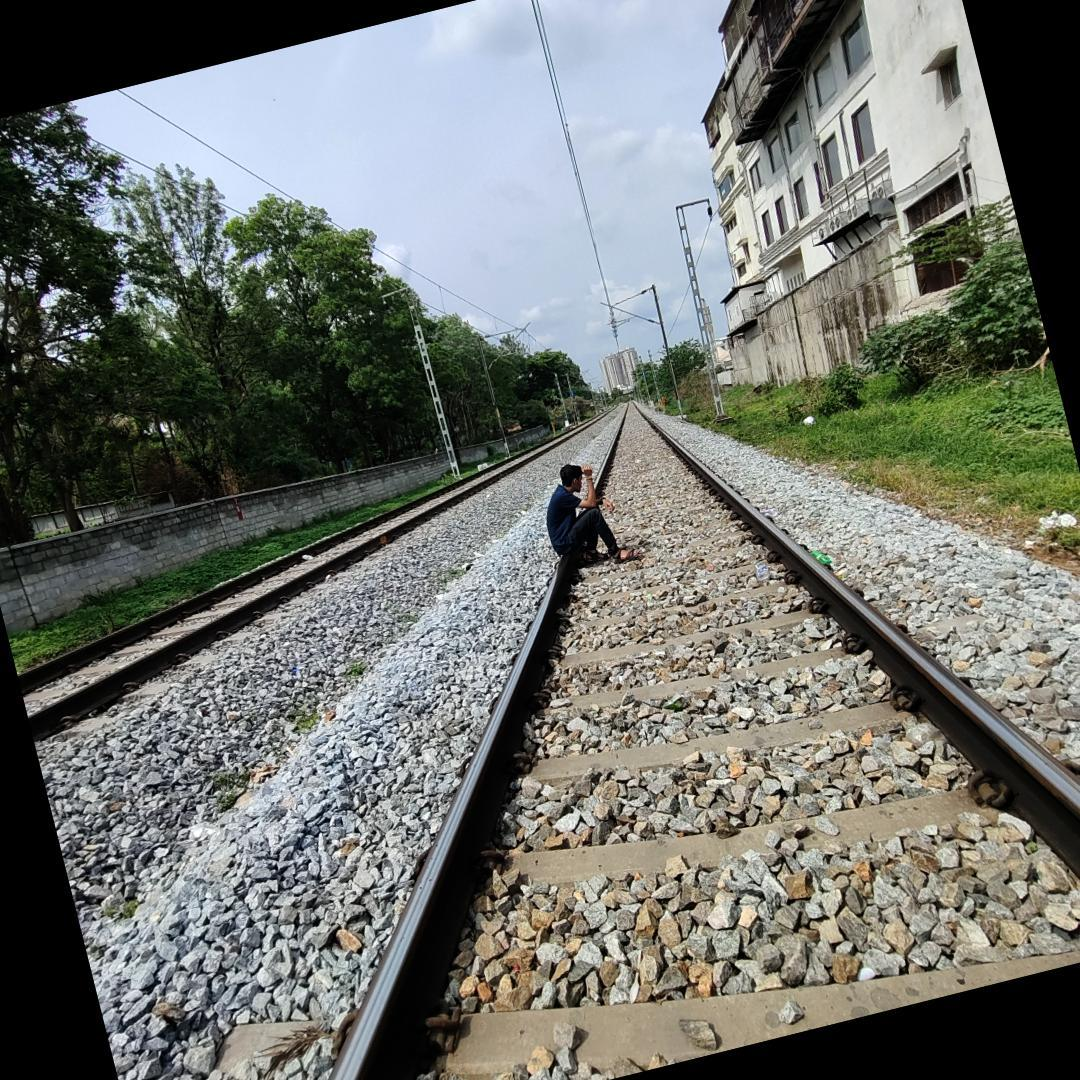sitting: (526, 449, 643, 582)
track: (289, 389, 1080, 1080)
